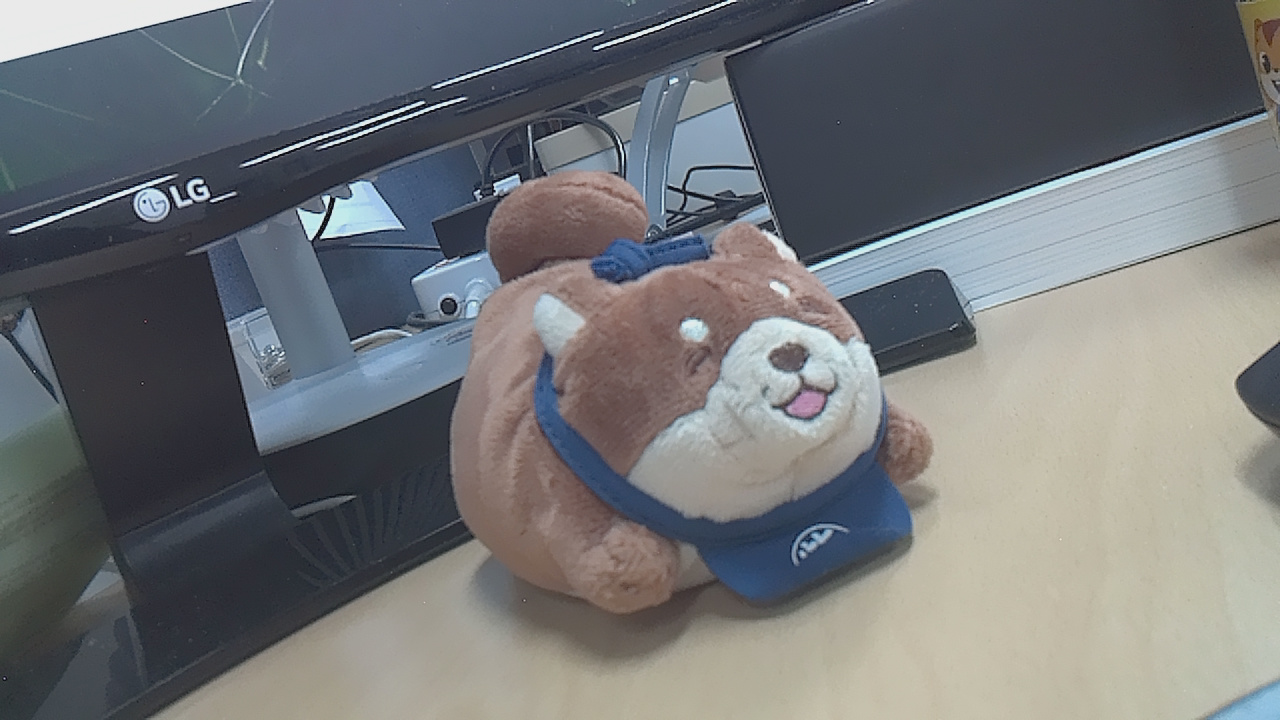cuteDog: (414, 186, 1001, 638)
